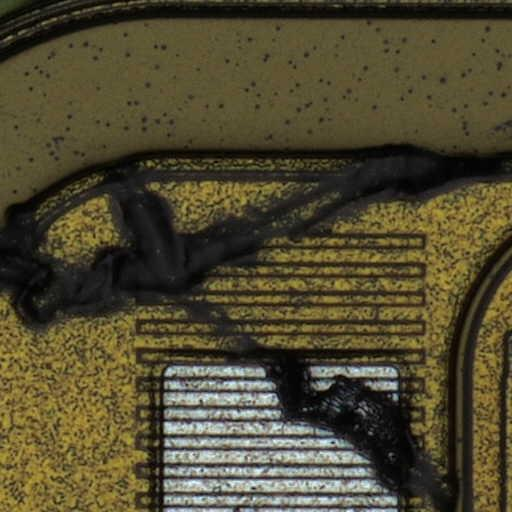SCRATCH: (1, 136, 512, 512)
